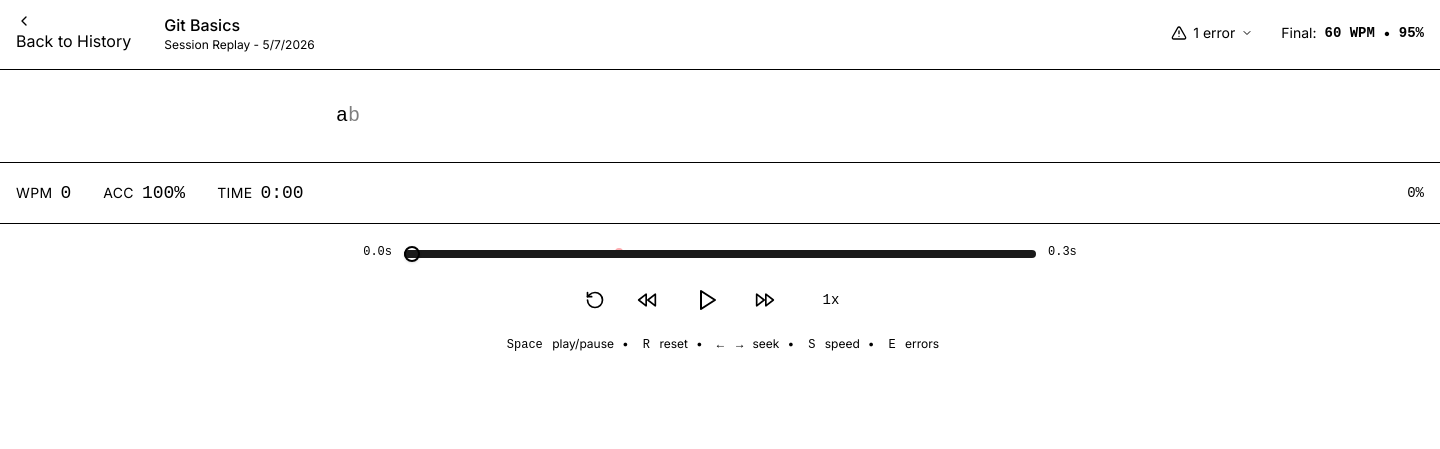
Test case: SessionReplay › error summary › should toggle error summary panel on button click
This screenshot has width=1440, height=449.
# Click to show
Click the button with test id "toggle-error-summary": (1212, 33) [1159,17,1265,49]
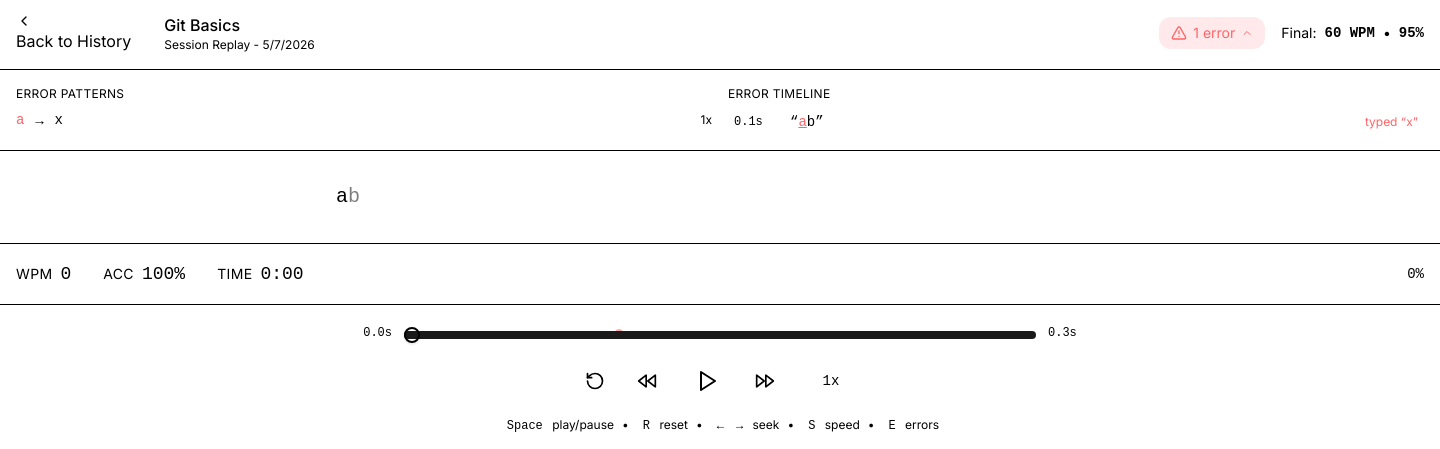
Result: the element with test id "error-summary" is shown at [0,70,1439,151]
# Click to hide
Click the button with test id "toggle-error-summary": (1212, 33) [1159,17,1265,49]
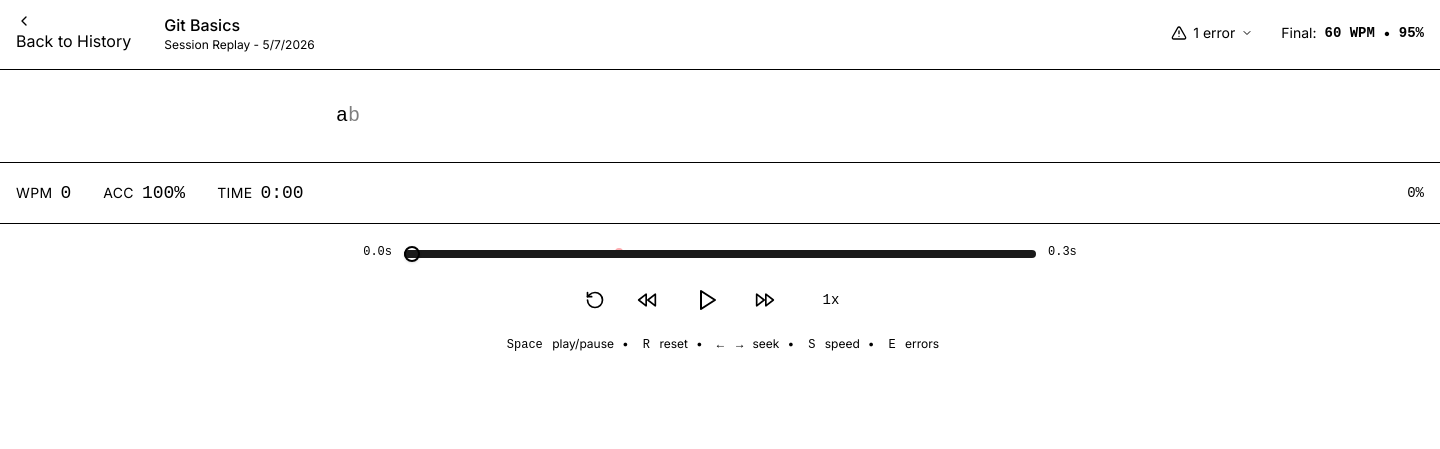
Result: the element with test id "error-summary" is gone
